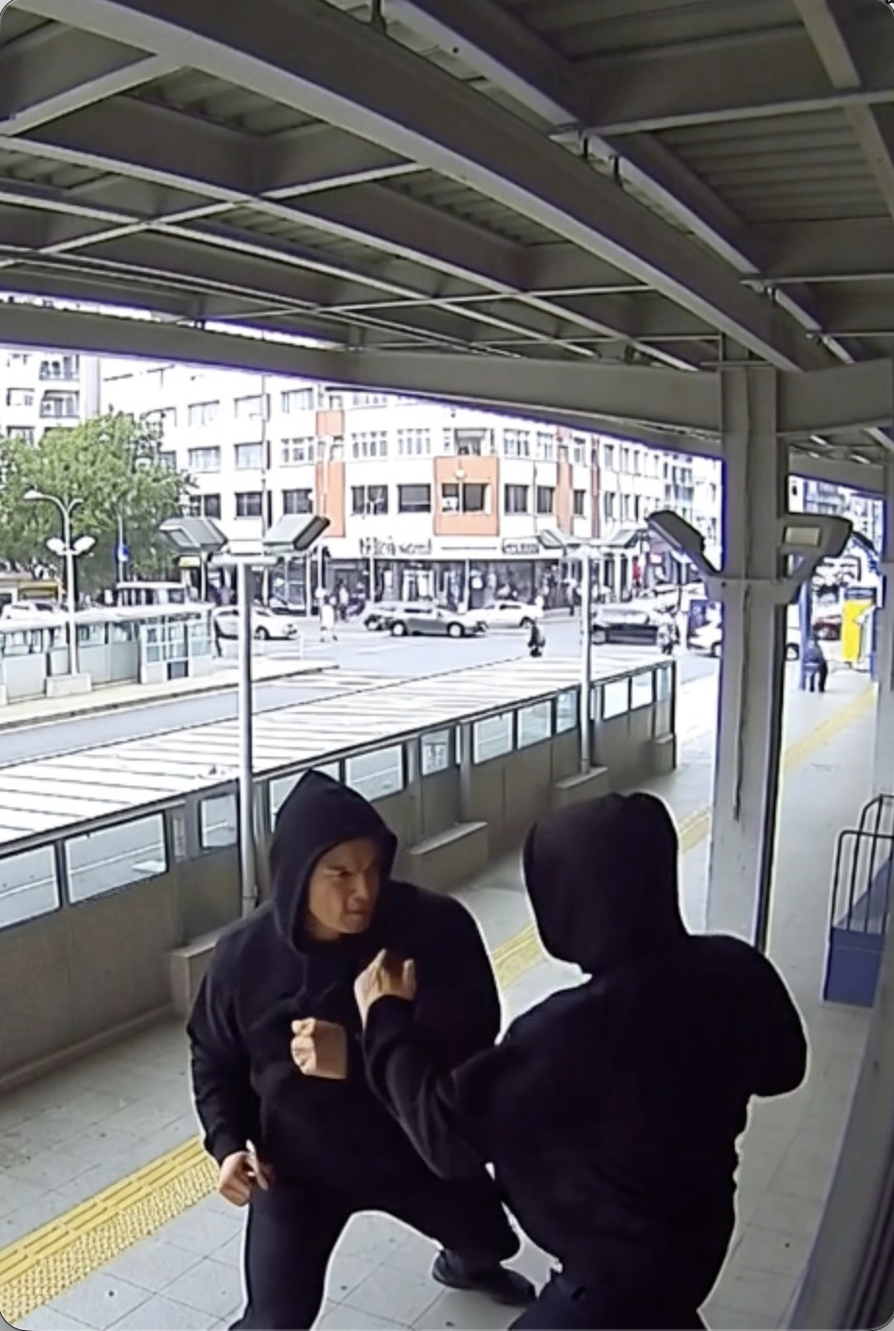Assault: (171, 770, 537, 1331)
Fighting: (350, 789, 811, 1330)
